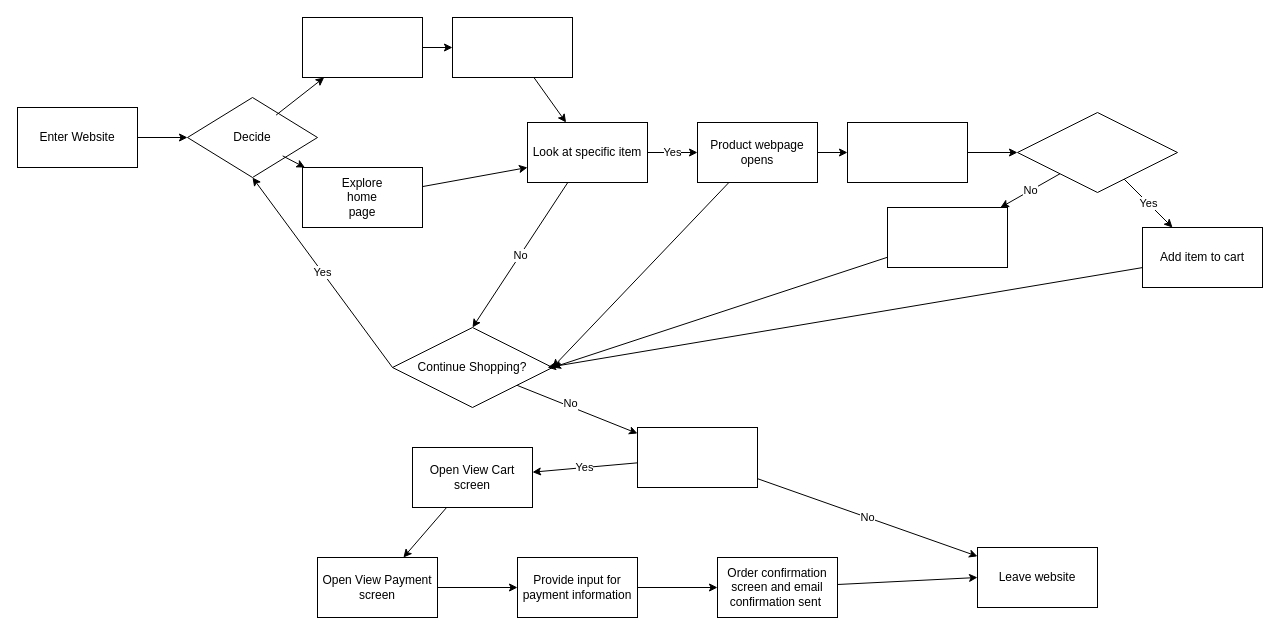
The diagram is 1280 pixels wide and 635 high, and some of its shapes have lost their labels. Each missing label, with the box of its shape:
Add to Cart: (846, 122, 968, 182)
Checkout Items in cart: (636, 426, 758, 488)
Confirmation: Add to cart?: (1016, 112, 1178, 192)
Don't add to cart: (886, 206, 1008, 268)
Provide input for search: (452, 16, 572, 78)
Search for item: (302, 16, 422, 78)
